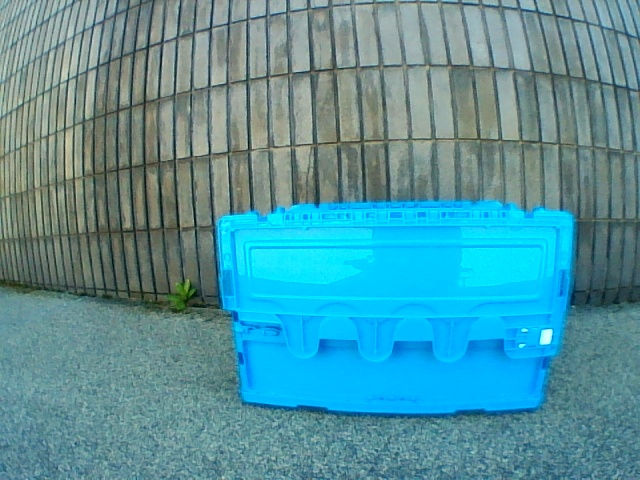blue_box: (216, 200, 572, 414)
